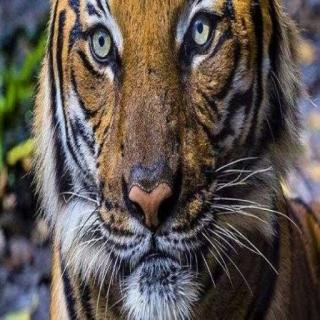Tiger: (17, 0, 320, 320)
